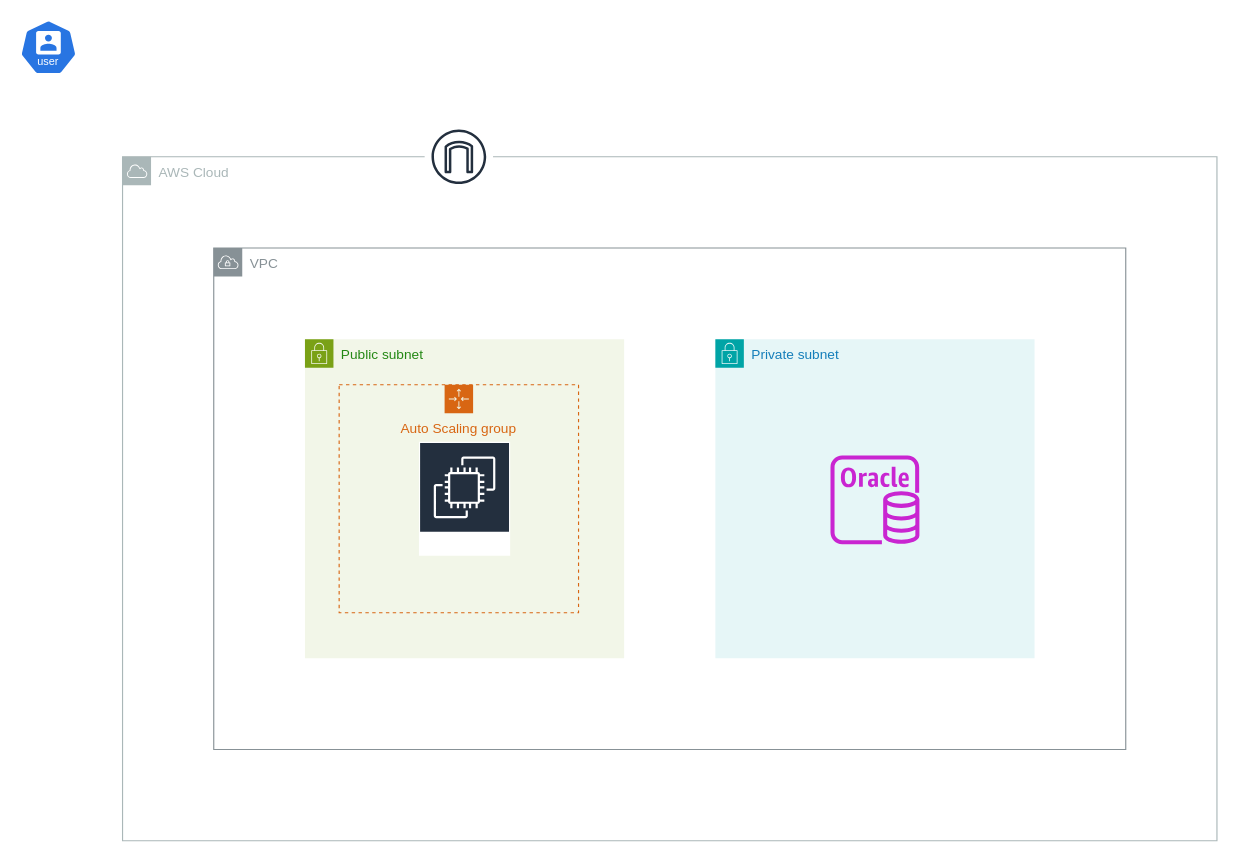
Some shapes in this 1237 by 861 pixel diagram are drawn without their labels. The centre of each missing label's shape, as x and y in pixels:
"Amazon EC2" belongs at pixel 464 498.
"Internet gateway" belongs at pixel 458 156.
